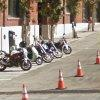Motorcycle: (3, 38, 72, 69)
